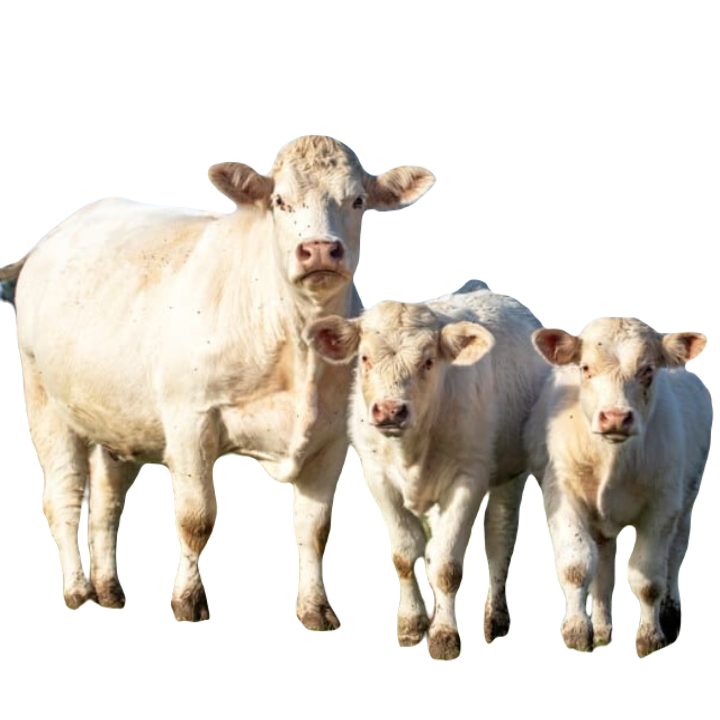Cow: (1, 130, 435, 629)
